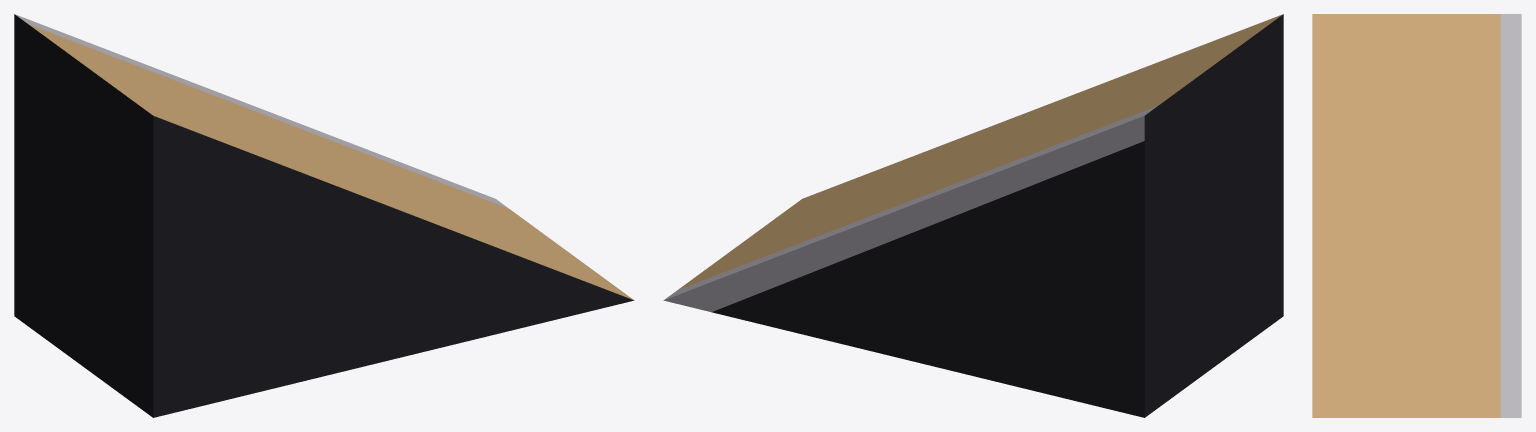
The model's file is Ramp_Half_6_Right.fbx.
3 renders of one model, left to right at view 1: azimuth 30°, elevation 25°; view 2: azimuth 150°, elevation 25°; view 3: azimuth 270°, elevation 25°, orthographic. The views are drawn at different scales.
Parts seen in each view (by area): view 1: Ramp_Half_6_Right; view 2: Ramp_Half_6_Right; view 3: Ramp_Half_6_Right.
Boxes of the visible parts, left/top/right/bottom form: Ramp_Half_6_Right: left=14, top=14, right=634, bottom=417; Ramp_Half_6_Right: left=663, top=14, right=1283, bottom=417; Ramp_Half_6_Right: left=1312, top=14, right=1521, bottom=417.
Bounding box in the file's own units: 10 × 6 × 5.
